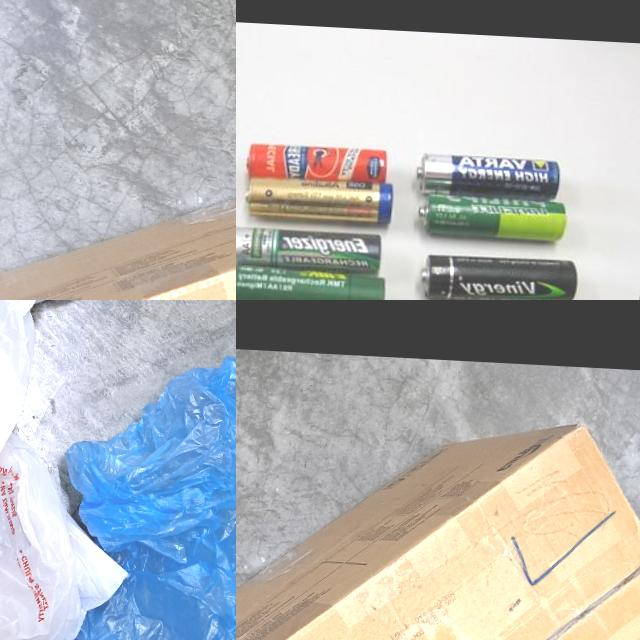bateria: (417, 190, 568, 243), (416, 250, 576, 300), (242, 175, 392, 228), (412, 152, 560, 202), (236, 225, 382, 273), (246, 142, 390, 186), (236, 265, 384, 300)
papelão: (236, 400, 640, 640), (0, 116, 236, 300)
sacola plástica: (65, 300, 236, 640), (0, 300, 129, 640)
